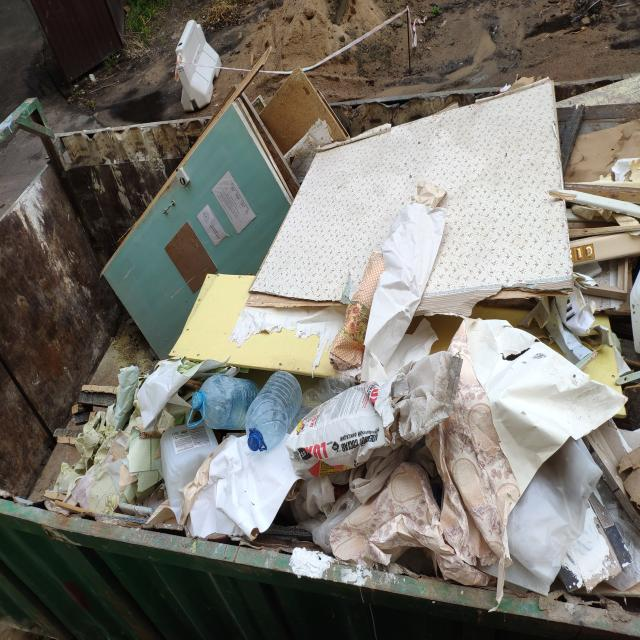entulho: (242, 80, 575, 314), (468, 318, 627, 496), (398, 352, 518, 579), (507, 397, 639, 601), (173, 267, 353, 379), (99, 184, 204, 360), (65, 358, 190, 504), (188, 427, 317, 535), (559, 92, 636, 272), (235, 72, 350, 192), (290, 364, 418, 470), (322, 459, 445, 565), (180, 98, 273, 188), (174, 20, 228, 114), (244, 374, 305, 456), (469, 284, 564, 334), (547, 287, 602, 367), (186, 375, 258, 423), (566, 510, 610, 580), (211, 173, 259, 234)
